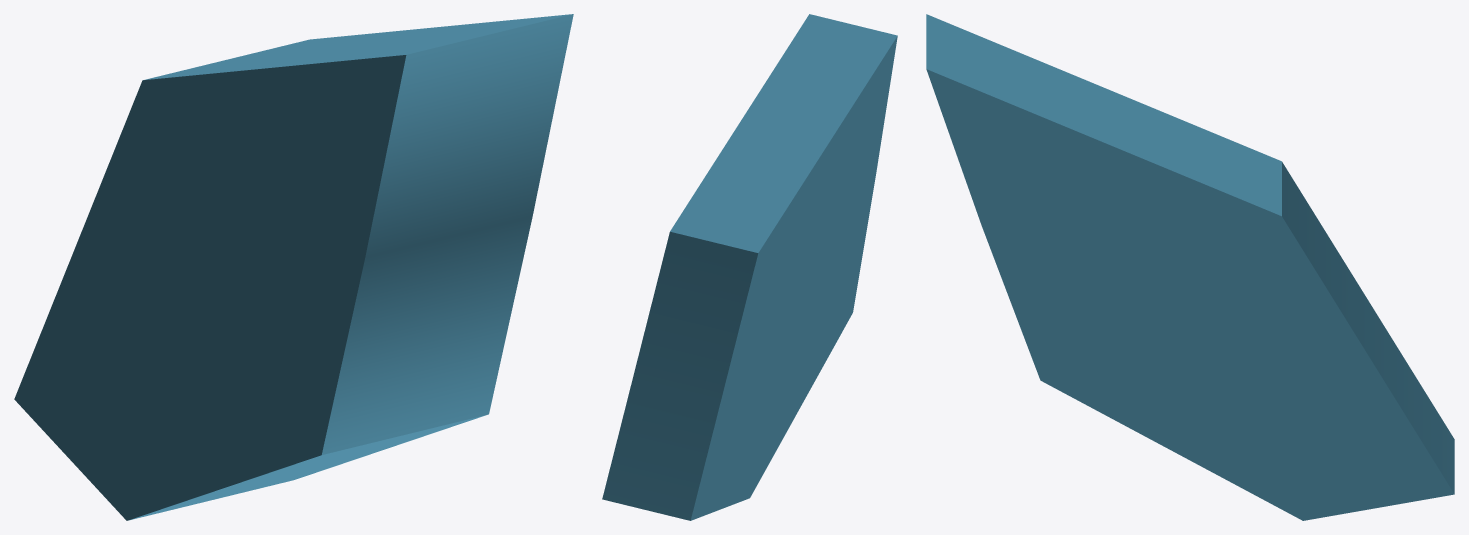
File: NexusC_Trigger_5.fbx
The picture shows the model from 3 angles, left to right: view 1: azimuth 30°, elevation 25°; view 2: azimuth 150°, elevation 25°; view 3: azimuth 270°, elevation 25°; orthographic projection. The views are drawn at different scales.
Visible parts, largest first — view 1: polySurface68; view 2: polySurface68; view 3: polySurface68.
Boxes of the visible parts, left/top/right/bottom form: polySurface68: left=14, top=14, right=573, bottom=520; polySurface68: left=602, top=14, right=897, bottom=520; polySurface68: left=926, top=14, right=1454, bottom=520.
Size of the model in its own units: 9.22 by 35.31 by 37.42.
